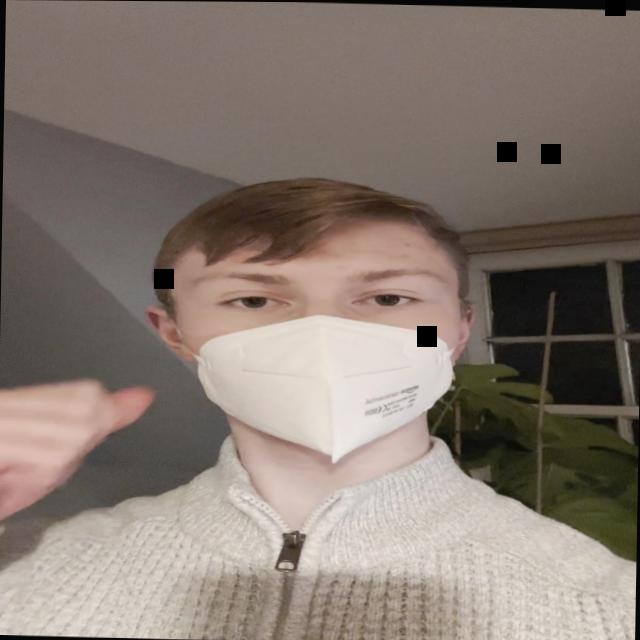Mask: (166, 211, 458, 466)
